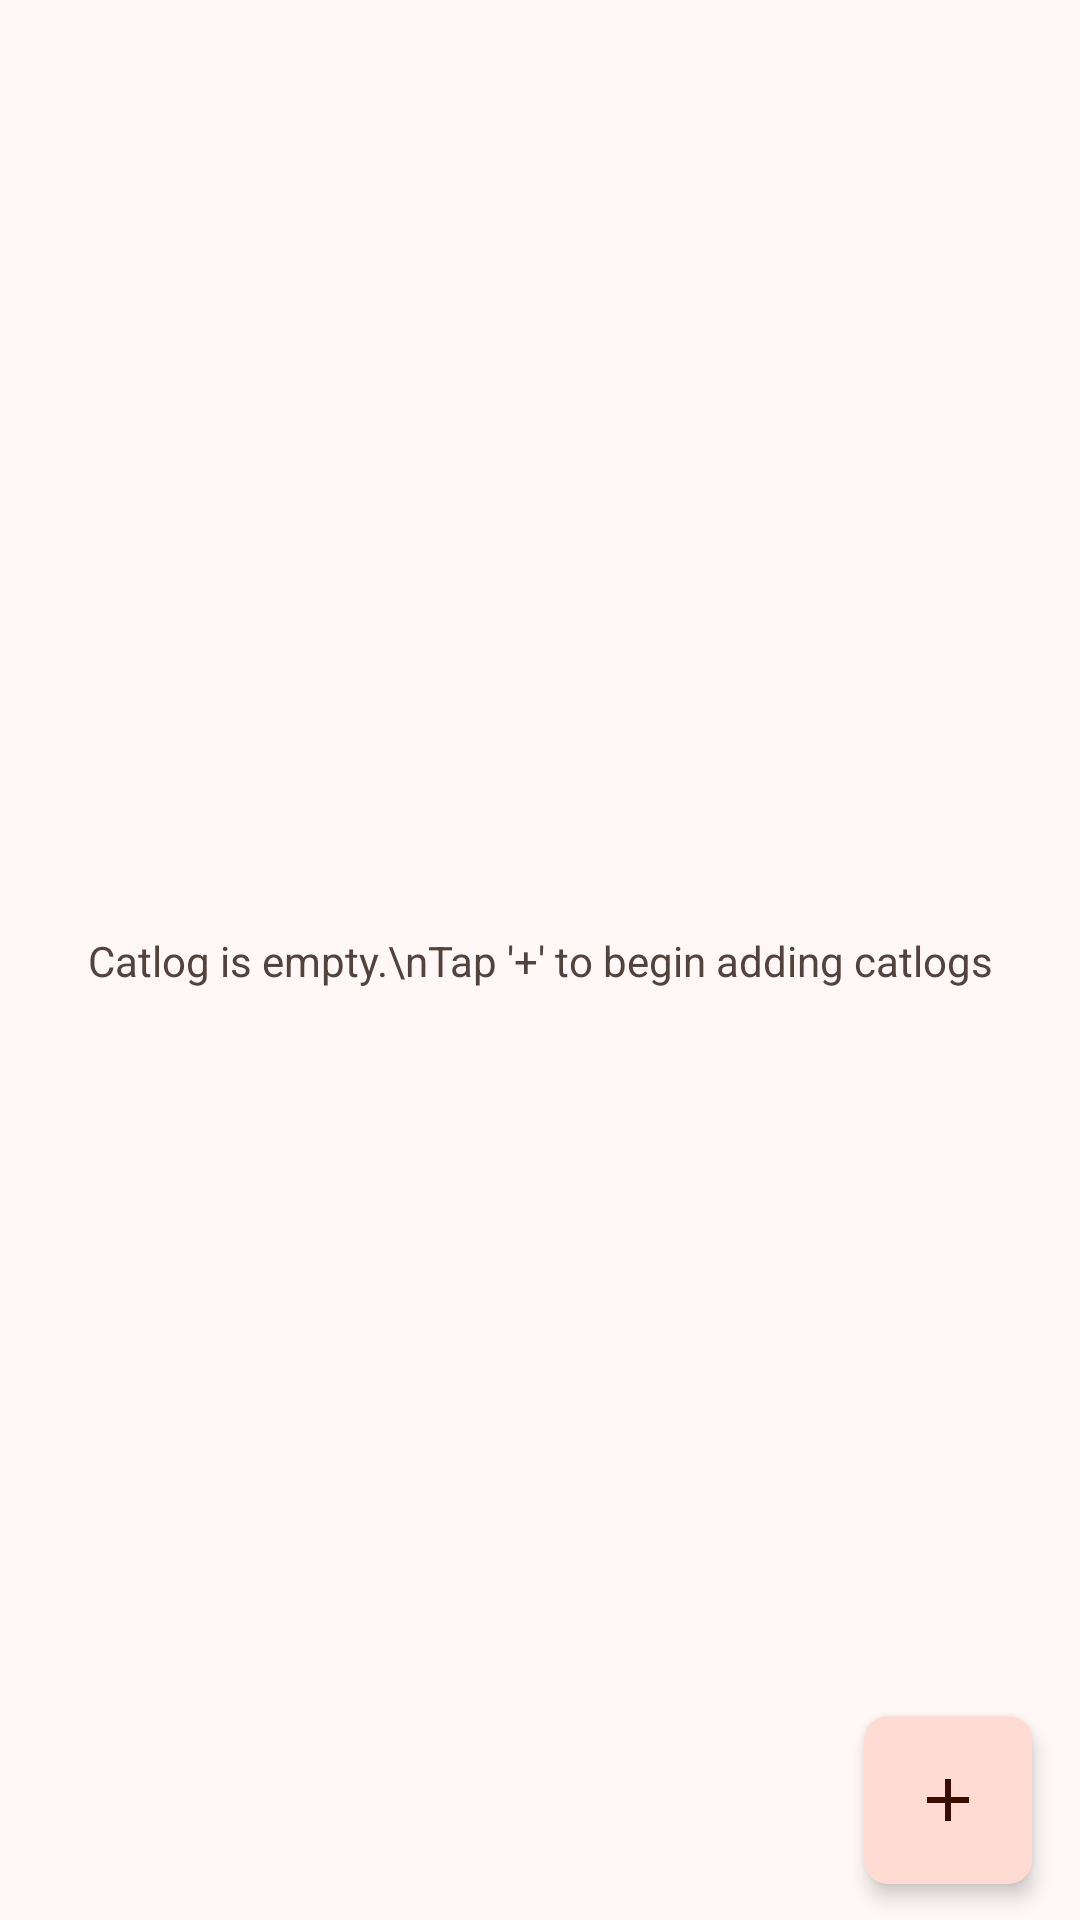

Point at icon controls on the screen. Image size 1080 × 1920, points as point (x, y).
Add new catalog: point (948, 1800)
